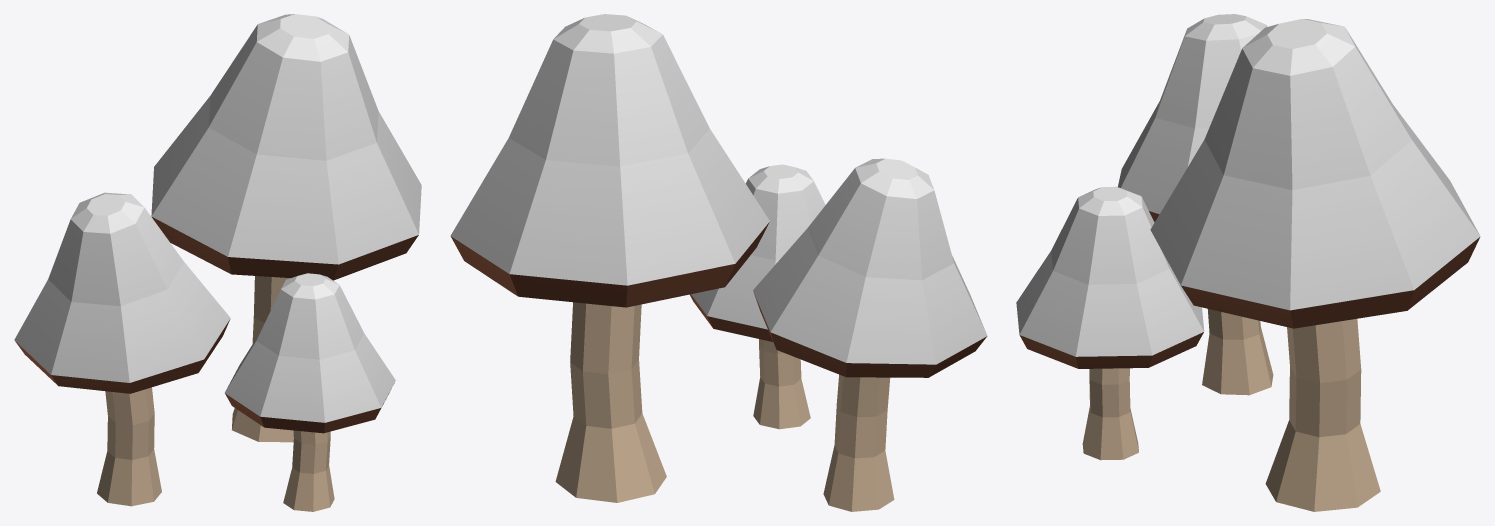
The model's file is Winter_Mushroom_02.glb.
3 renders of one model, left to right at view 1: azimuth 30°, elevation 25°; view 2: azimuth 150°, elevation 25°; view 3: azimuth 270°, elevation 25°, orthographic. The views are drawn at different scales.
Visible parts, largest first — view 1: Winter_Mushroom_02_LOD0; view 2: Winter_Mushroom_02_LOD0; view 3: Winter_Mushroom_02_LOD0.
Part boxes in pixels (x1,y1,x2,y2): Winter_Mushroom_02_LOD0: (14, 14, 421, 511); Winter_Mushroom_02_LOD0: (450, 14, 987, 511); Winter_Mushroom_02_LOD0: (1016, 14, 1480, 511).
Size of what is drawn, in the model's own units: 0.3154 by 0.2952 by 0.2668.
1 material, 1 textured.
